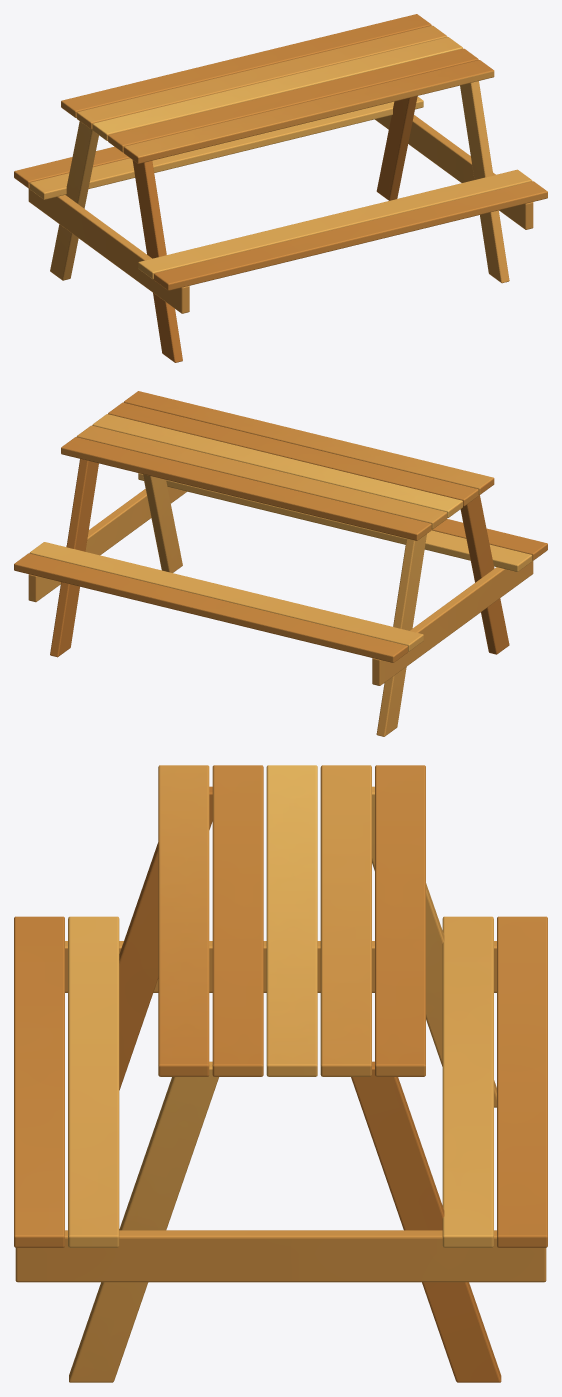
Rendered from picnic table.obj.
3 renders of one model, top to bottom at view 1: azimuth 30°, elevation 25°; view 2: azimuth 150°, elevation 25°; view 3: azimuth 270°, elevation 25°, orthographic. The views are drawn at different scales.
Visible parts, largest first — view 1: picnic_table_Cube.017; view 2: picnic_table_Cube.017; view 3: picnic_table_Cube.017.
Part boxes in pixels (<box>): picnic_table_Cube.017: <box>14,14,547,362</box>; picnic_table_Cube.017: <box>14,391,547,736</box>; picnic_table_Cube.017: <box>14,765,547,1382</box>.
Size of the model in its own units: 2.23 by 1.06 by 1.57.
